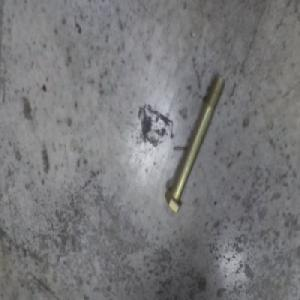Bolt: (165, 75, 224, 212)
